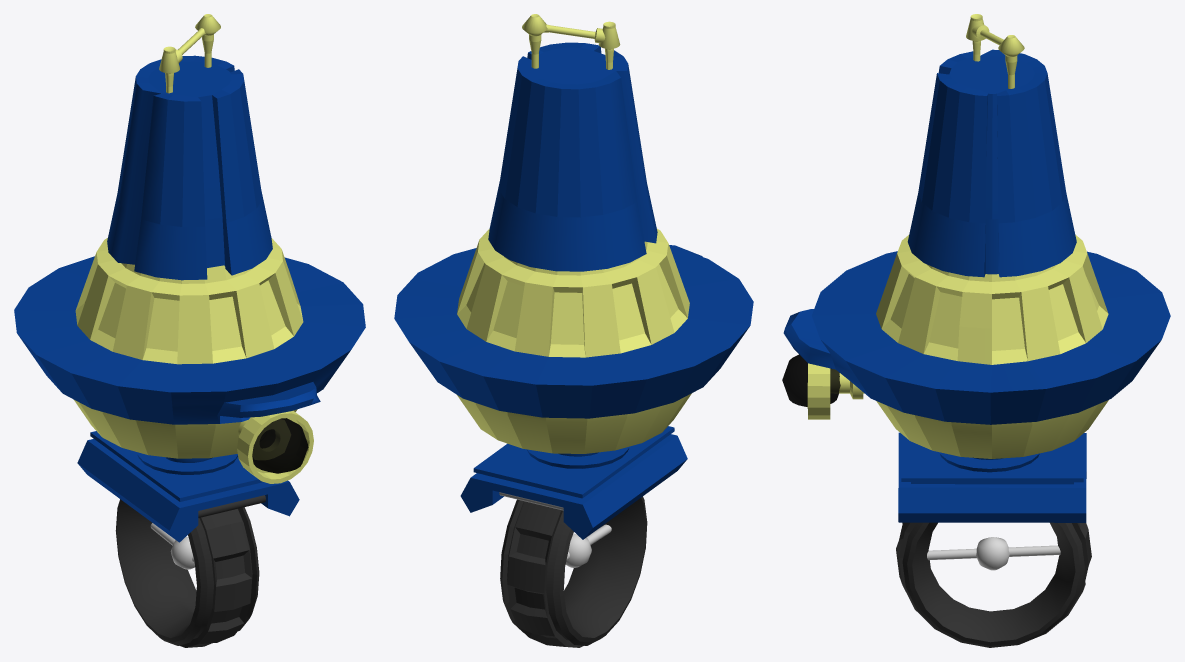
Rendered from BossBot_default_anim.fbx.
The picture shows the model from 3 angles, left to right: view 1: azimuth 30°, elevation 25°; view 2: azimuth 150°, elevation 25°; view 3: azimuth 270°, elevation 25°; orthographic projection. The views are drawn at different scales.
Parts seen in each view (by area): view 1: Minion; view 2: Minion; view 3: Minion.
Boxes of the visible parts, left/top/right/bottom form: Minion: left=14, top=14, right=365, bottom=647; Minion: left=394, top=14, right=753, bottom=647; Minion: left=782, top=14, right=1170, bottom=647.
Size of the model in its own units: 0.1255 by 0.2391 by 0.1359.
